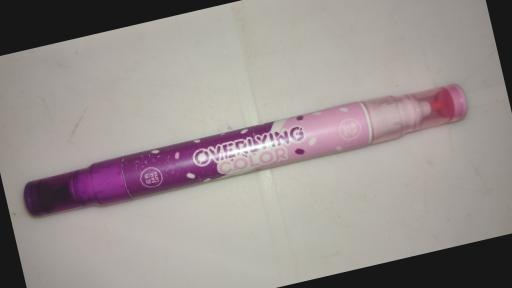Highlighter: (20, 79, 472, 224)
